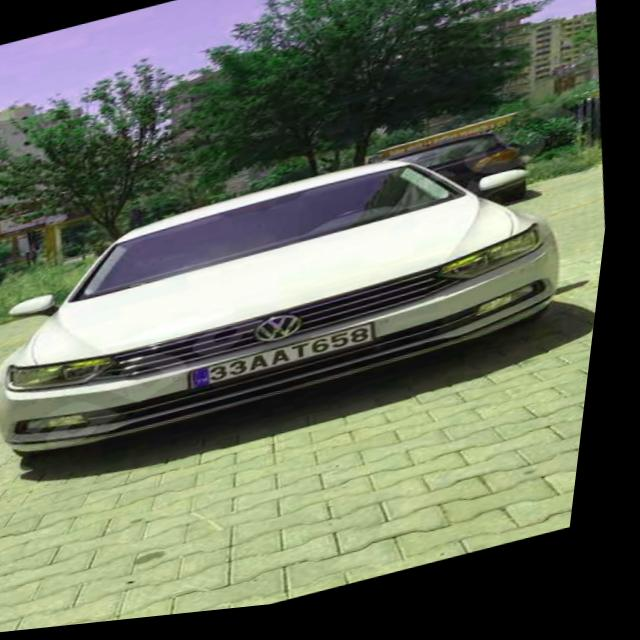license_plate: (197, 331, 385, 394)
